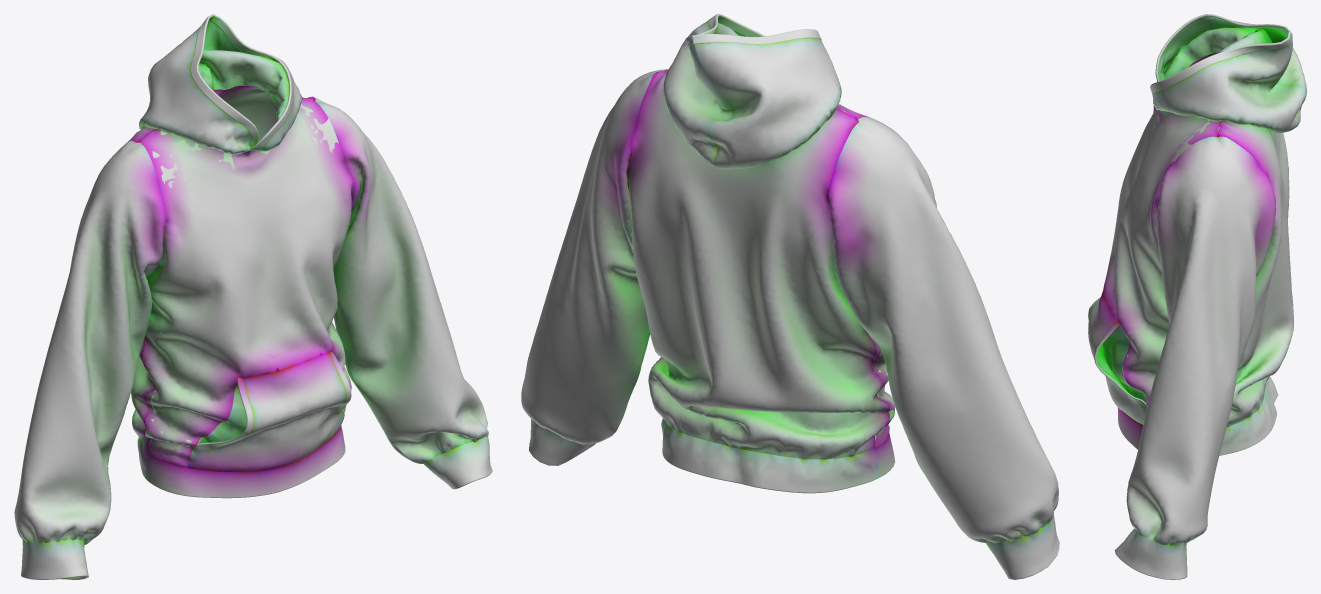
File: hoodie.glb
3 renders of one model, left to right at view 1: azimuth 30°, elevation 25°; view 2: azimuth 150°, elevation 25°; view 3: azimuth 270°, elevation 25°, orthographic. The views are drawn at different scales.
Parts seen in each view (by area): view 1: front, sleeve_r, sleeve_l, pocket, hood, hem, cuffs, back, hood_trim; view 2: back, sleeve_r, sleeve_l, hood, hem, cuffs, hood_trim, front; view 3: sleeve_l, front, hood, back, pocket, hem, cuffs, hood_trim.
Part boxes in pixels (<box>): front: <box>141,98,354,467</box>; sleeve_r: <box>14,140,181,544</box>; sleeve_l: <box>314,97,488,463</box>; pocket: <box>147,341,351,471</box>; hood: <box>139,21,338,188</box>; hem: <box>137,425,345,498</box>; cuffs: <box>21,436,492,579</box>; back: <box>128,85,315,449</box>; hood_trim: <box>190,14,292,151</box>; back: <box>626,71,890,459</box>; sleeve_r: <box>827,117,1058,543</box>; sleeve_l: <box>521,69,667,444</box>; hood: <box>663,20,863,169</box>; hem: <box>661,418,894,493</box>; cuffs: <box>529,419,1059,579</box>; hood_trim: <box>685,14,821,46</box>; front: <box>664,69,894,447</box>; sleeve_l: <box>1126,136,1275,545</box>; front: <box>1103,53,1219,405</box>; hood: <box>1152,19,1306,164</box>; back: <box>1214,52,1293,427</box>; pocket: <box>1088,272,1157,424</box>; hem: <box>1117,376,1277,455</box>; cuffs: <box>1114,528,1187,579</box>; hood_trim: <box>1150,14,1292,94</box>.
Bounding box in the file's own units: 0.6828 × 0.6529 × 0.2811.
